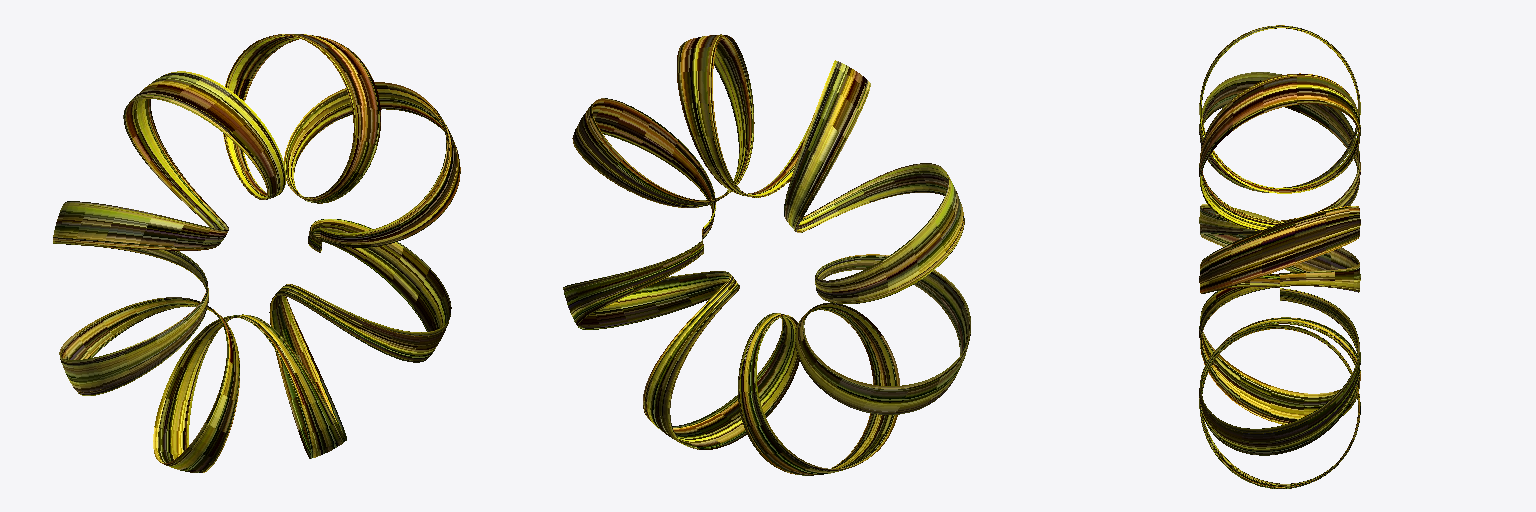
3 renders of one model, left to right at view 1: azimuth 30°, elevation 25°; view 2: azimuth 150°, elevation 25°; view 3: azimuth 270°, elevation 25°, orthographic.
Parts seen in each view (by area): view 1: helix1:pHelix1 helix1:polySurface1 group5; view 2: helix1:pHelix1 helix1:polySurface1 group5; view 3: helix1:pHelix1 helix1:polySurface1 group5.
Boxes of the visible parts, <box> form: helix1:pHelix1 helix1:polySurface1 group5: <box>53,34,460,472</box>; helix1:pHelix1 helix1:polySurface1 group5: <box>563,34,970,475</box>; helix1:pHelix1 helix1:polySurface1 group5: <box>1199,25,1360,488</box>.
Size of the model in its own units: 16.25 by 16.72 by 5.99.
Materials: 1 (1 with a texture image).